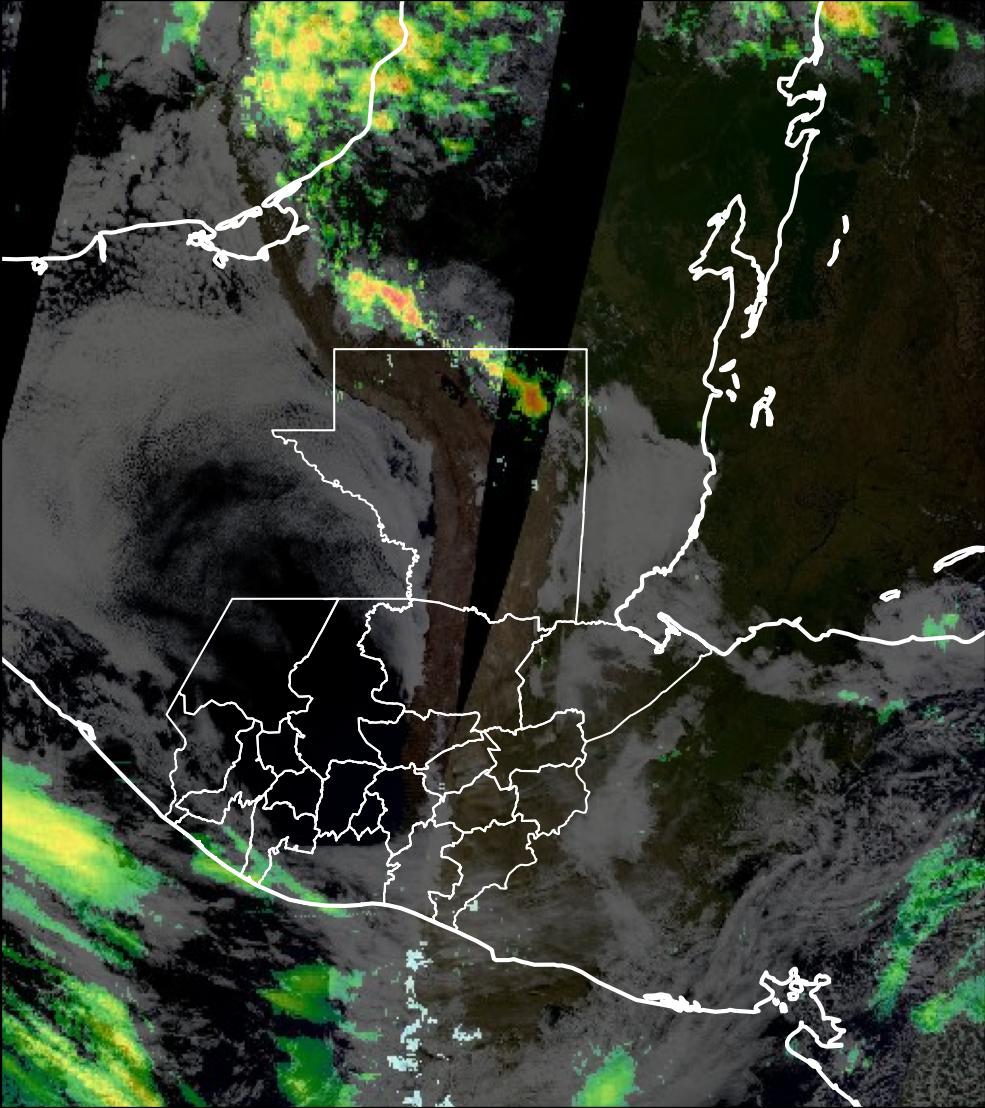precipitacion: (346, 263, 453, 349)
